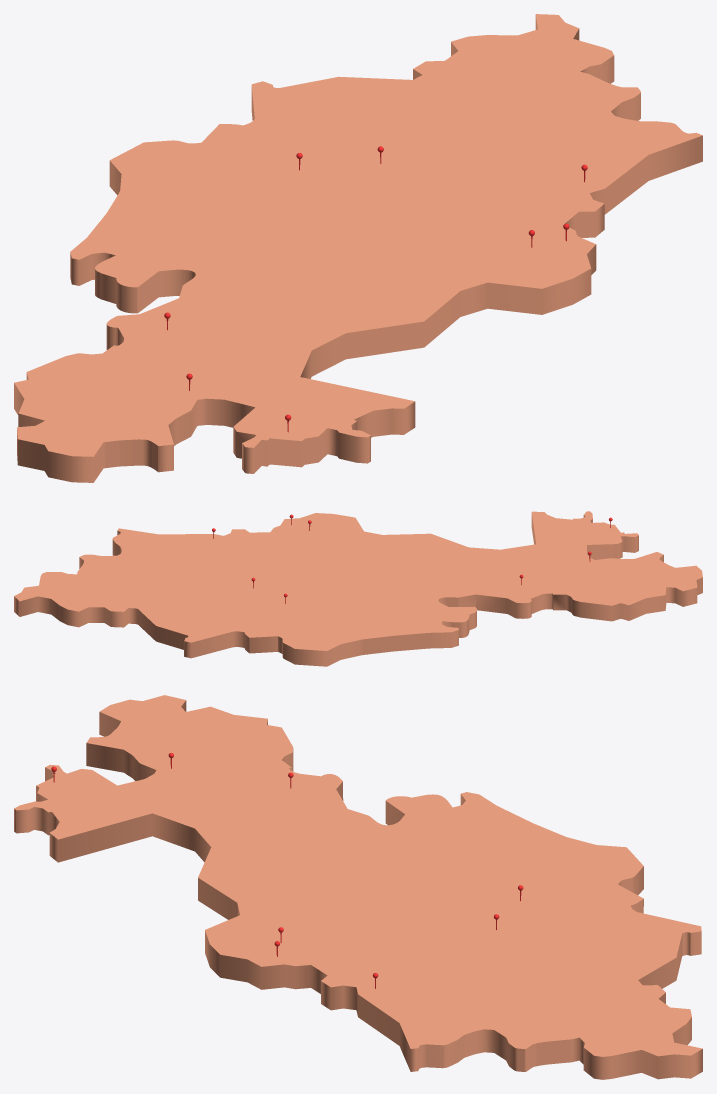
Rendered from map.glb.
3 renders of one model, top to bottom at view 1: azimuth 30°, elevation 25°; view 2: azimuth 150°, elevation 25°; view 3: azimuth 270°, elevation 25°, orthographic. The views are drawn at different scales.
Parts seen in each view (by area): view 1: map; view 2: map; view 3: map.
Boxes of the visible parts, <box> form: map: <box>14,14,702,482</box>; map: <box>14,511,702,666</box>; map: <box>14,695,702,1079</box>.
Size of the model in its own units: 6.87 by 0.3562 by 5.52.
